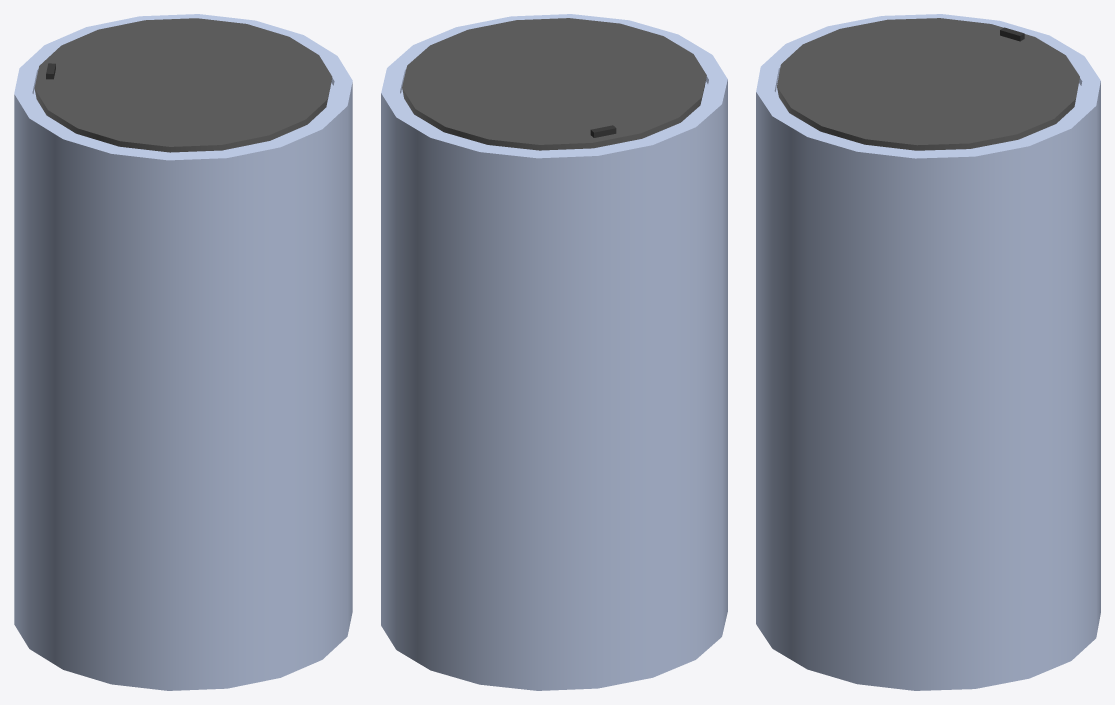
File: Prullenbak.fbx
The picture shows the model from 3 angles, left to right: view 1: azimuth 30°, elevation 25°; view 2: azimuth 150°, elevation 25°; view 3: azimuth 270°, elevation 25°; orthographic projection.
Parts seen in each view (by area): view 1: Prullenbak; view 2: Prullenbak; view 3: Prullenbak.
Part boxes in pixels (bbox=[...]): Prullenbak: bbox=[14, 14, 352, 690]; Prullenbak: bbox=[381, 14, 727, 690]; Prullenbak: bbox=[756, 14, 1100, 690].
Size of the model in its own units: 20.06 by 35.11 by 20.22.
